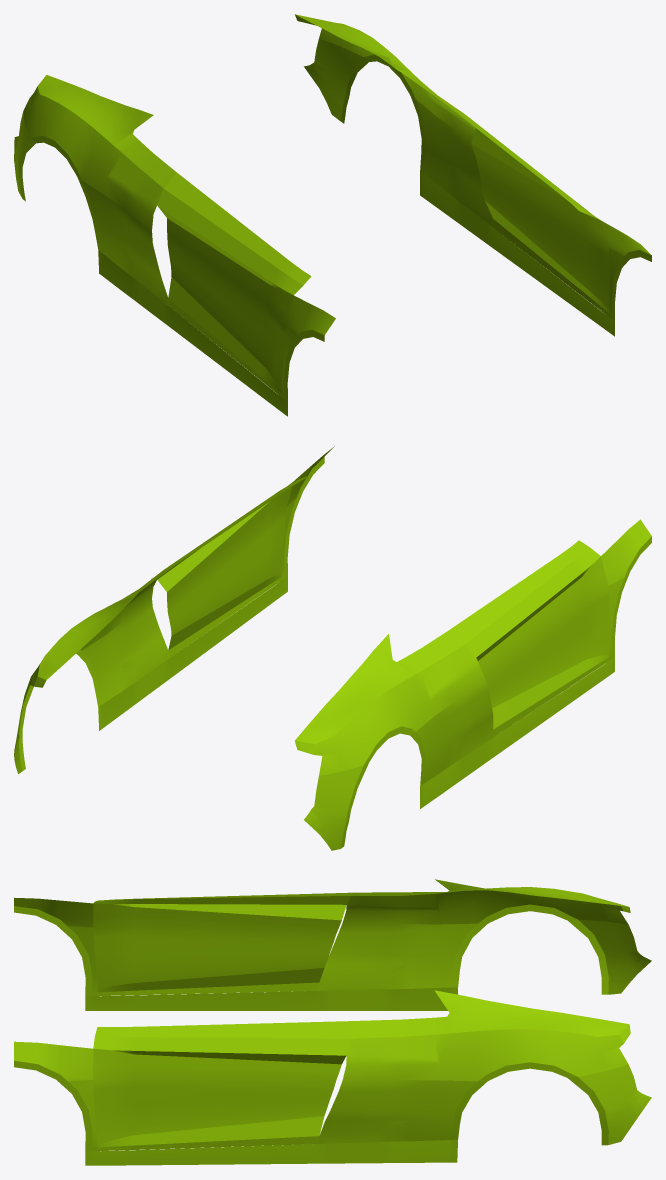
File: Fix_R8_StickerSide (1).fbx
The picture shows the model from 3 angles, top to bottom: view 1: azimuth 30°, elevation 25°; view 2: azimuth 150°, elevation 25°; view 3: azimuth 270°, elevation 25°; orthographic projection. The views are drawn at different scales.
Parts seen in each view (by area): view 1: R8_Sticker_Side; view 2: R8_Sticker_Side; view 3: R8_Sticker_Side.
Part boxes in pixels (<box>): R8_Sticker_Side: <box>14,14,651,416</box>; R8_Sticker_Side: <box>14,446,651,850</box>; R8_Sticker_Side: <box>14,879,651,1165</box>.
Bounding box in the file's own units: 172 × 77.53 × 292.
